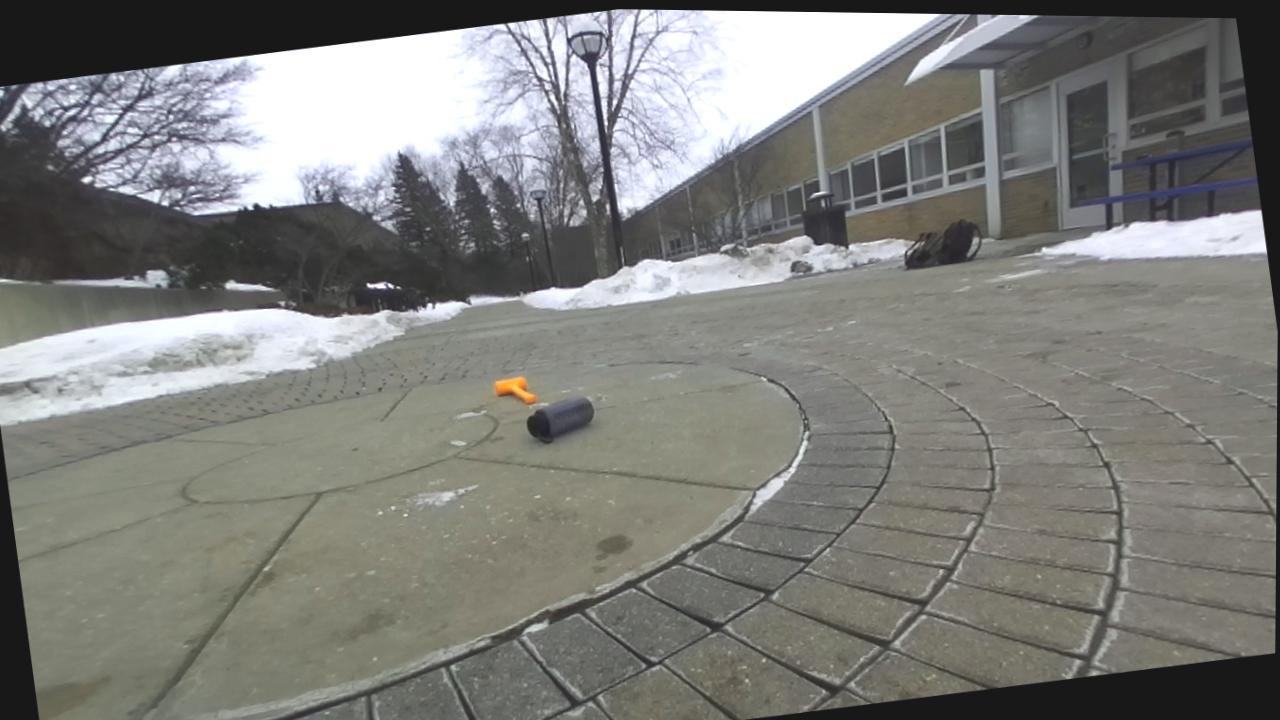bottle: (527, 396, 593, 442)
mallet: (494, 377, 536, 404)
